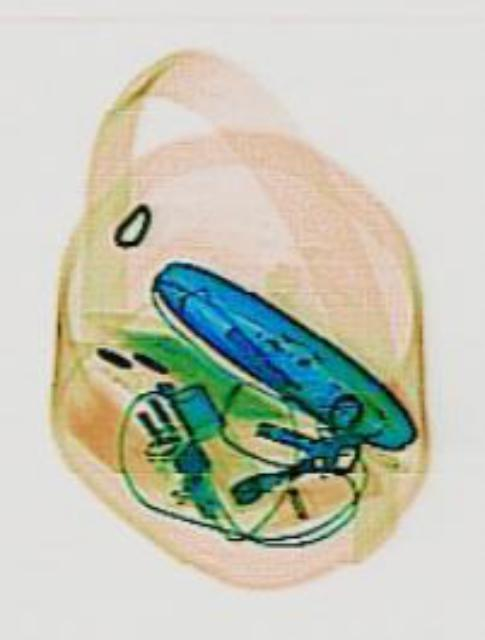Scissors: (247, 388, 367, 484)
